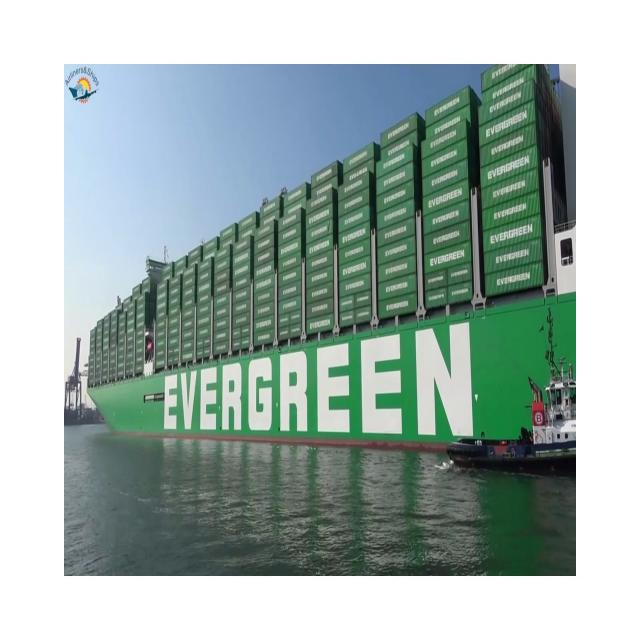OCR: (157, 314, 480, 443)
